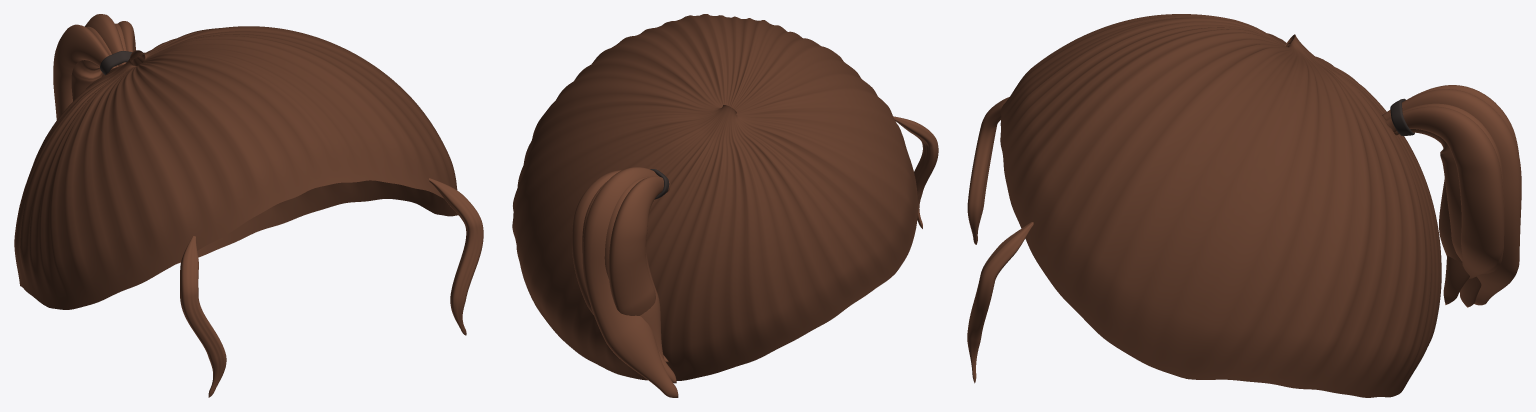
File: ponytail-headband-default.glb
The picture shows the model from 3 angles, left to right: view 1: azimuth 30°, elevation 25°; view 2: azimuth 150°, elevation 25°; view 3: azimuth 270°, elevation 25°; orthographic projection. The views are drawn at different scales.
Visible parts, largest first — view 1: Hair / swept roots220, Hair / adjustable front216 1, Hair / adjustable front216 -1, Hair / rounded tail220 0, Hair / rounded tail220 1, Hair / rounded tail220 2, Hair / tie220; view 2: Hair / swept roots220, Hair / rounded tail220 2, Hair / rounded tail220 0, Hair / rounded tail220 4, Hair / adjustable front216 -1, Hair / rounded tail220 1; view 3: Hair / swept roots220, Hair / rounded tail220 4, Hair / rounded tail220 2, Hair / adjustable front216 1, Hair / rounded tail220 3, Hair / adjustable front216 -1, Hair / rounded tail220 0, Hair / rounded tail220 1.
Boxes of the visible parts, x1=… form: Hair / swept roots220: x1=14, y1=26, x2=457, y2=309; Hair / adjustable front216 1: x1=429, y1=178, x2=483, y2=335; Hair / adjustable front216 -1: x1=180, y1=236, x2=226, y2=397; Hair / rounded tail220 0: x1=53, y1=24, x2=115, y2=120; Hair / rounded tail220 1: x1=71, y1=26, x2=118, y2=100; Hair / rounded tail220 2: x1=85, y1=14, x2=126, y2=76; Hair / tie220: x1=100, y1=51, x2=132, y2=75; Hair / swept roots220: x1=512, y1=14, x2=917, y2=380; Hair / rounded tail220 2: x1=582, y1=167, x2=678, y2=397; Hair / rounded tail220 0: x1=608, y1=176, x2=670, y2=315; Hair / rounded tail220 4: x1=572, y1=170, x2=668, y2=362; Hair / adjustable front216 -1: x1=893, y1=116, x2=938, y2=228; Hair / rounded tail220 1: x1=604, y1=176, x2=663, y2=358; Hair / swept roots220: x1=1000, y1=14, x2=1441, y2=397; Hair / rounded tail220 4: x1=1385, y1=106, x2=1504, y2=278; Hair / rounded tail220 2: x1=1382, y1=89, x2=1521, y2=305; Hair / adjustable front216 1: x1=967, y1=222, x2=1033, y2=383; Hair / rounded tail220 3: x1=1385, y1=103, x2=1504, y2=273; Hair / adjustable front216 -1: x1=967, y1=97, x2=1009, y2=244; Hair / rounded tail220 0: x1=1408, y1=85, x2=1519, y2=304; Hair / rounded tail220 1: x1=1439, y1=178, x2=1481, y2=307.
Bounding box in the file's own units: 0.7726 × 0.5798 × 0.861.
